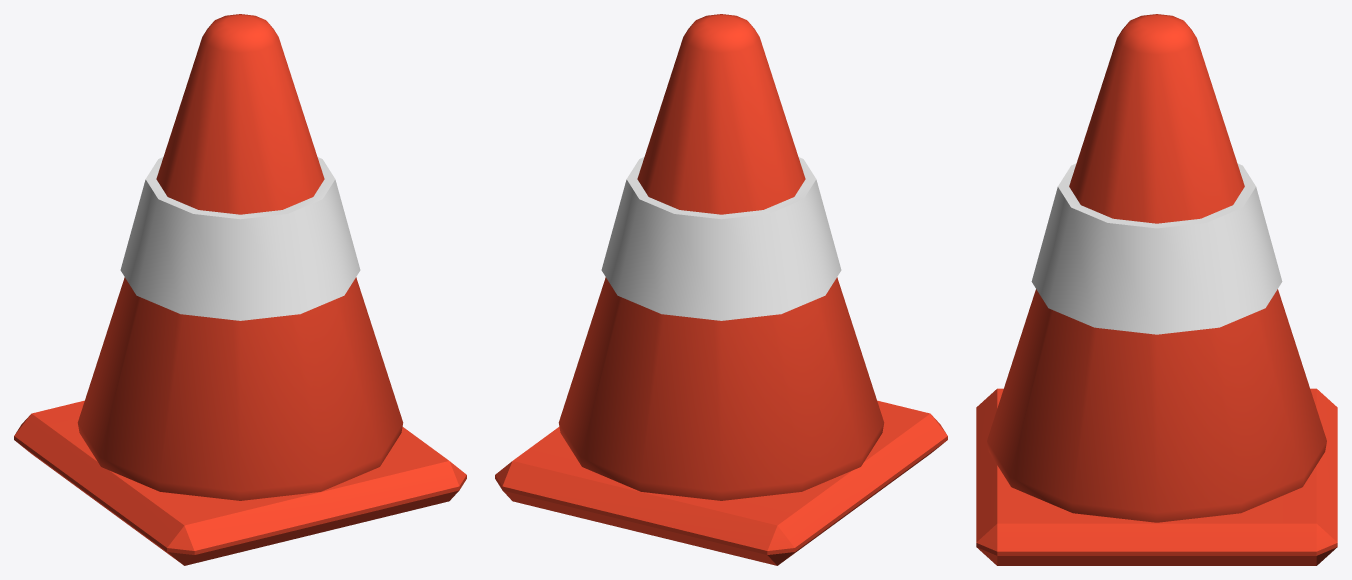
3 renders of one model, left to right at view 1: azimuth 30°, elevation 25°; view 2: azimuth 150°, elevation 25°; view 3: azimuth 270°, elevation 25°, orthographic. The views are drawn at different scales.
Parts seen in each view (by area): view 1: cone; view 2: cone; view 3: cone.
Boxes of the visible parts, <box> form: cone: <box>14,14,466,565</box>; cone: <box>495,14,947,565</box>; cone: <box>976,14,1337,565</box>.
Size of the model in its own units: 0.62 by 0.9 by 0.62.
